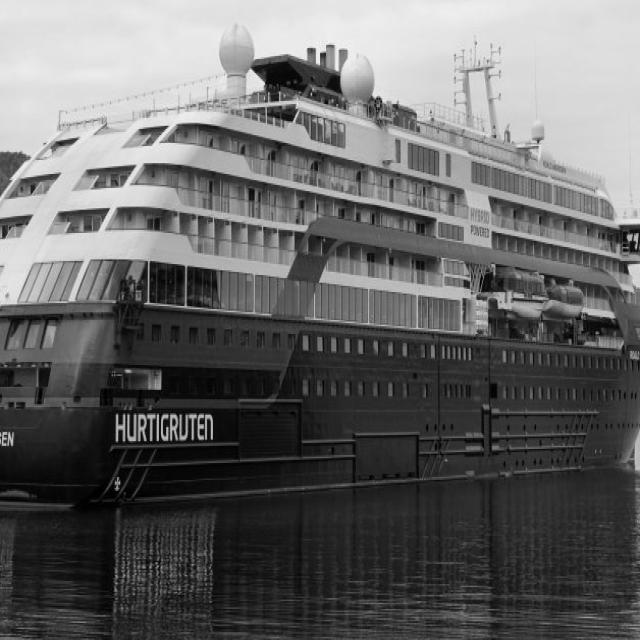cruises: (1, 17, 640, 525)
